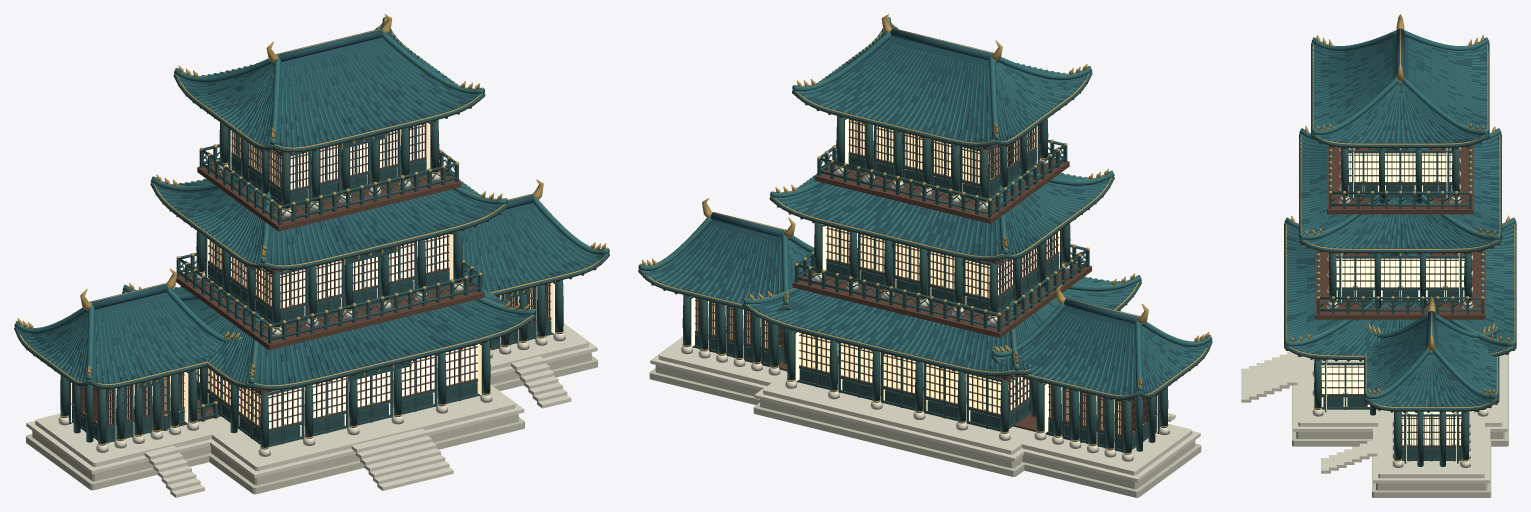
Rendered from library.glb.
3 views of the same model, side by side, from view 1: azimuth 30°, elevation 25°; view 2: azimuth 150°, elevation 25°; view 3: azimuth 270°, elevation 25° (orthographic). The views are drawn at different scales.
Parts seen in each view (by area): view 1: Library_Lacquer, Library_TileShade, Library_TileJade, Library_Cedar, Library_StoneCarving, Library_RicePaper, SideHall_-1_TileShade, SideHall_-1_Lacquer, SideHall_-1_StoneCarving, SideHall_-1_TileJade, SideHall_1_TileShade, Library_AgedBronze (+9 smaller); view 2: Library_Lacquer, Library_TileShade, Library_TileJade, Library_Cedar, Library_RicePaper, Library_StoneCarving, SideHall_-1_TileShade, SideHall_1_TileShade, SideHall_-1_Lacquer, SideHall_-1_TileJade, SideHall_-1_StoneCarving, SideHall_1_Lacquer (+11 smaller); view 3: Library_TileJade, Library_TileShade, Library_Lacquer, Library_Cedar, SideHall_1_TileJade, Library_RicePaper, Library_StoneCarving, SideHall_1_TileShade, SideHall_1_StoneCarving, Library_AgedBronze, SideHall_1_Lacquer, SideHall_1_Limestone (+4 smaller).
Boxes of the visible parts, x1,y1,x2,y2 form: Library_Lacquer: (122,24,536,449); Library_TileShade: (126,27,531,385); Library_TileJade: (122,17,536,384); Library_Cedar: (133,86,523,433); Library_StoneCarving: (197,164,524,490); Library_RicePaper: (188,122,481,436); SideHall_-1_TileShade: (18,283,219,384); SideHall_-1_Lacquer: (14,327,208,445); SideHall_-1_StoneCarving: (26,404,211,497); SideHall_-1_TileJade: (14,285,240,383); SideHall_1_TileShade: (461,194,604,292); Library_AgedBronze: (124,14,534,449); Library_Lacquer: (742,25,1141,433); Library_TileShade: (749,27,1135,371); Library_TileJade: (743,17,1141,371); Library_Cedar: (745,83,1133,442); Library_RicePaper: (795,118,1059,421); Library_StoneCarving: (754,158,1069,461); SideHall_-1_TileShade: (999,298,1206,395); SideHall_1_TileShade: (646,212,810,306); SideHall_-1_Lacquer: (991,340,1212,454); SideHall_-1_TileJade: (991,300,1212,394); SideHall_-1_StoneCarving: (1022,413,1200,482); SideHall_1_Lacquer: (638,269,795,368); Library_TileJade: (1284,30,1516,355); Library_TileShade: (1286,28,1514,355); Library_Lacquer: (1284,42,1516,415); Library_Cedar: (1285,138,1515,396); SideHall_1_TileJade: (1364,313,1498,406); Library_RicePaper: (1321,152,1464,410); Library_StoneCarving: (1241,147,1507,431); SideHall_1_TileShade: (1366,311,1496,406); SideHall_1_StoneCarving: (1321,421,1490,483); Library_AgedBronze: (1285,14,1515,409); SideHall_1_Lacquer: (1364,331,1499,466); SideHall_1_Limestone: (1372,439,1491,497).
Bounding box in the file's own units: 25.99 × 18.49 × 13.24.
